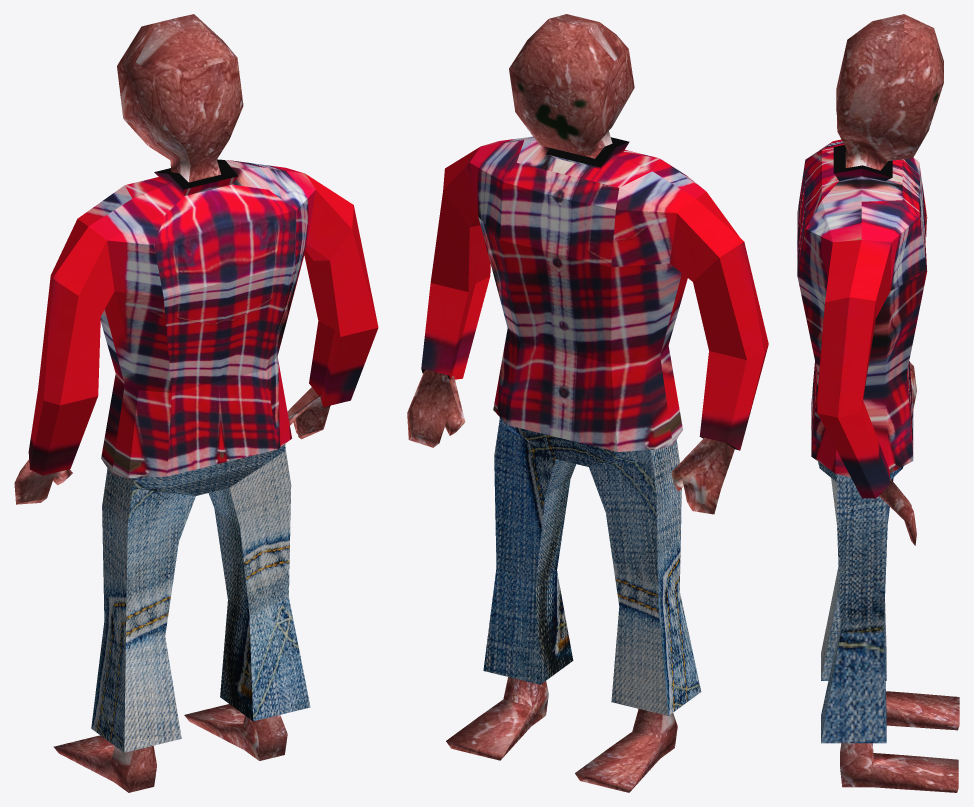
Rendered from Zombie.fbx.
3 renders of one model, left to right at view 1: azimuth 30°, elevation 25°; view 2: azimuth 150°, elevation 25°; view 3: azimuth 270°, elevation 25°, orthographic.
Parts seen in each view (by area): view 1: Cube.001; view 2: Cube.001; view 3: Cube.001.
Boxes of the visible parts, <box> form: Cube.001: <box>14,14,378,792</box>; Cube.001: <box>407,14,768,792</box>; Cube.001: <box>797,14,959,792</box>.
Bounding box in the file's own units: 0.8728 × 0.3739 × 1.85.
